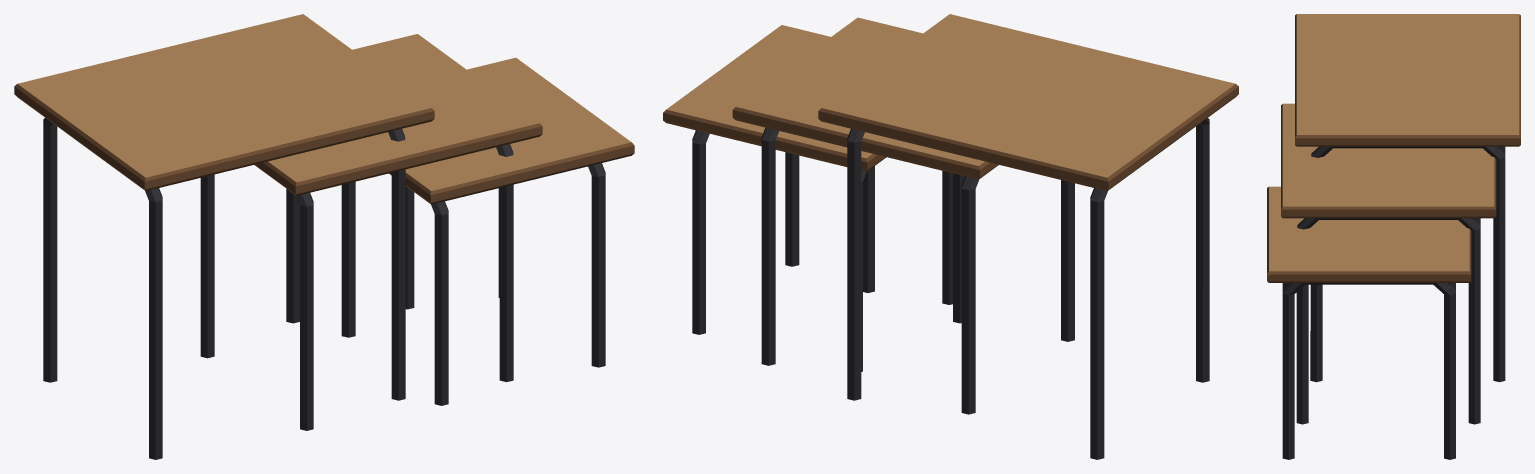
Rendered from FN_Table_Nest.glb.
The picture shows the model from 3 angles, left to right: view 1: azimuth 30°, elevation 25°; view 2: azimuth 150°, elevation 25°; view 3: azimuth 270°, elevation 25°; orthographic projection. The views are drawn at different scales.
Visible parts, largest first — view 1: FN_Table_Nest; view 2: FN_Table_Nest; view 3: FN_Table_Nest.
Part boxes in pixels (x1,y1,x2,y2): FN_Table_Nest: (14,14,634,459); FN_Table_Nest: (663,14,1238,459); FN_Table_Nest: (1267,14,1520,459).
Bounding box in the file's own units: 0.882 × 0.52 × 0.472.
Materials: 1 (1 with a texture image).
